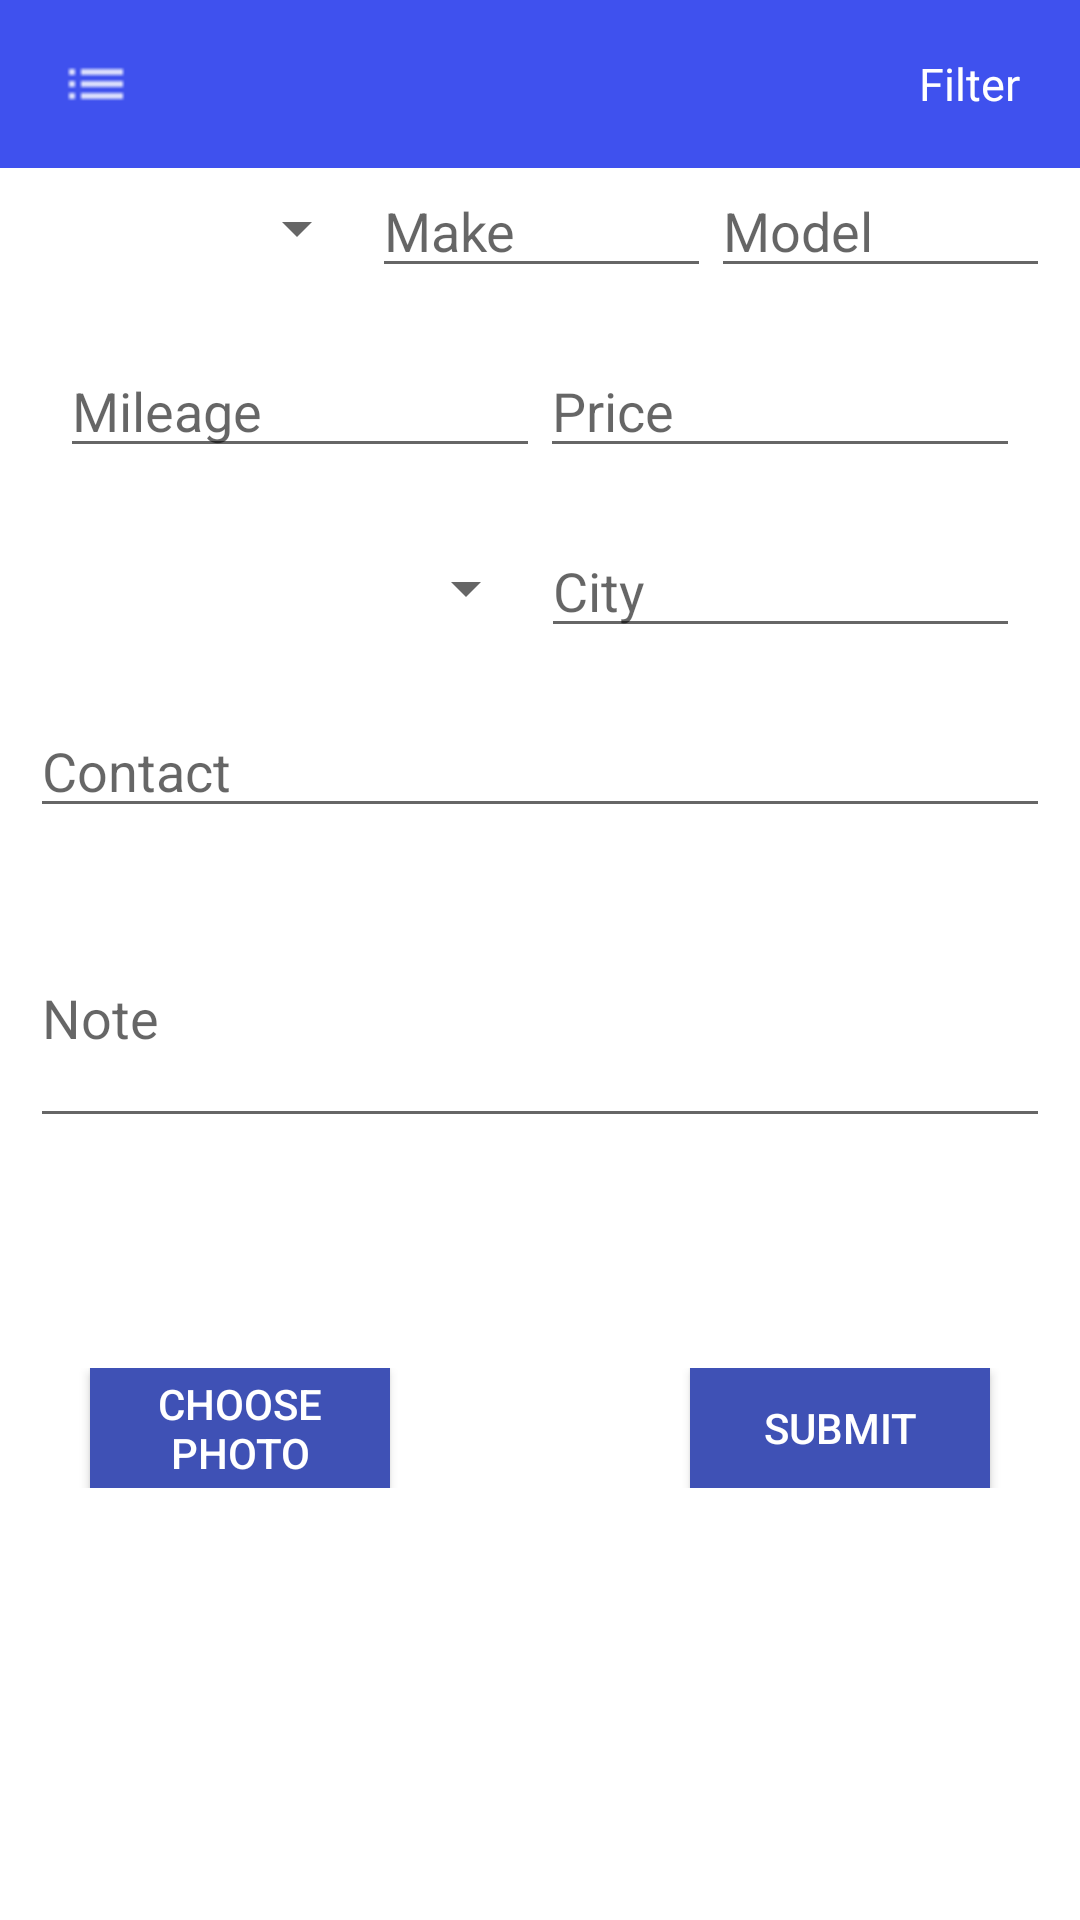

Icon bounding boxes for this 1080 x 1920 phone screenshot, format (x1, y1, x2, y2):
list: (68, 68, 124, 100)
